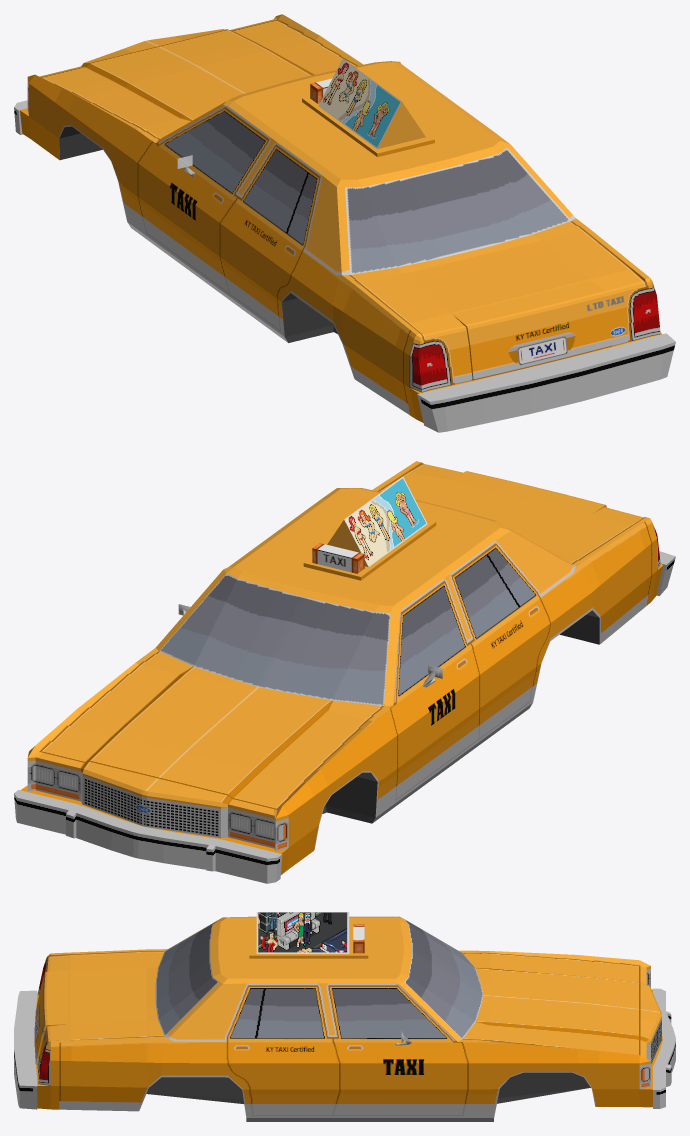
Rendered from 80crownvictorialtdtaxi2.fbx.
3 renders of one model, top to bottom at view 1: azimuth 30°, elevation 25°; view 2: azimuth 150°, elevation 25°; view 3: azimuth 270°, elevation 25°, orthographic. The views are drawn at different scales.
Visible parts, largest first — view 1: 80crownvictoria; view 2: 80crownvictoria; view 3: 80crownvictoria.
Boxes of the visible parts, bbox=[...] form: 80crownvictoria: bbox=[14, 14, 675, 432]; 80crownvictoria: bbox=[14, 461, 675, 883]; 80crownvictoria: bbox=[14, 912, 675, 1121].
Bounding box in the file's own units: 1.98 × 1.49 × 5.47.
